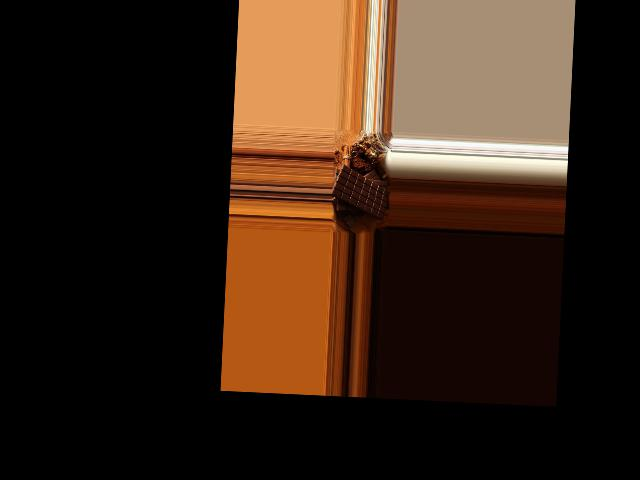chocolate: (330, 161, 388, 220)
